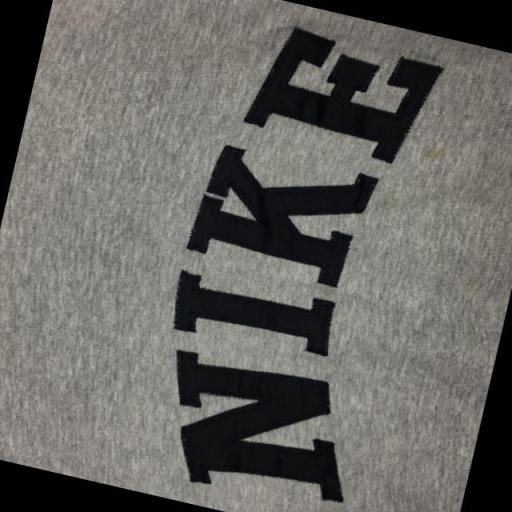Nike: (134, 1, 450, 505)
